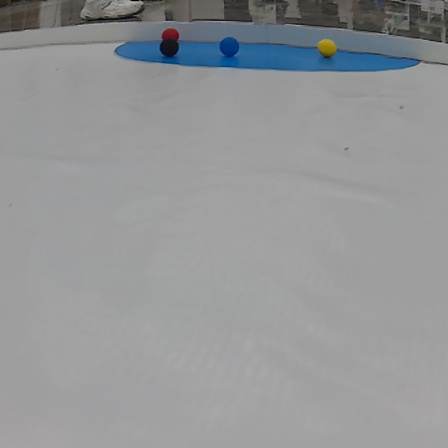black: (159, 39, 179, 58)
blue: (220, 38, 241, 57)
blue_base: (115, 37, 425, 72)
red: (163, 27, 179, 40)
yellow: (316, 39, 339, 56)
